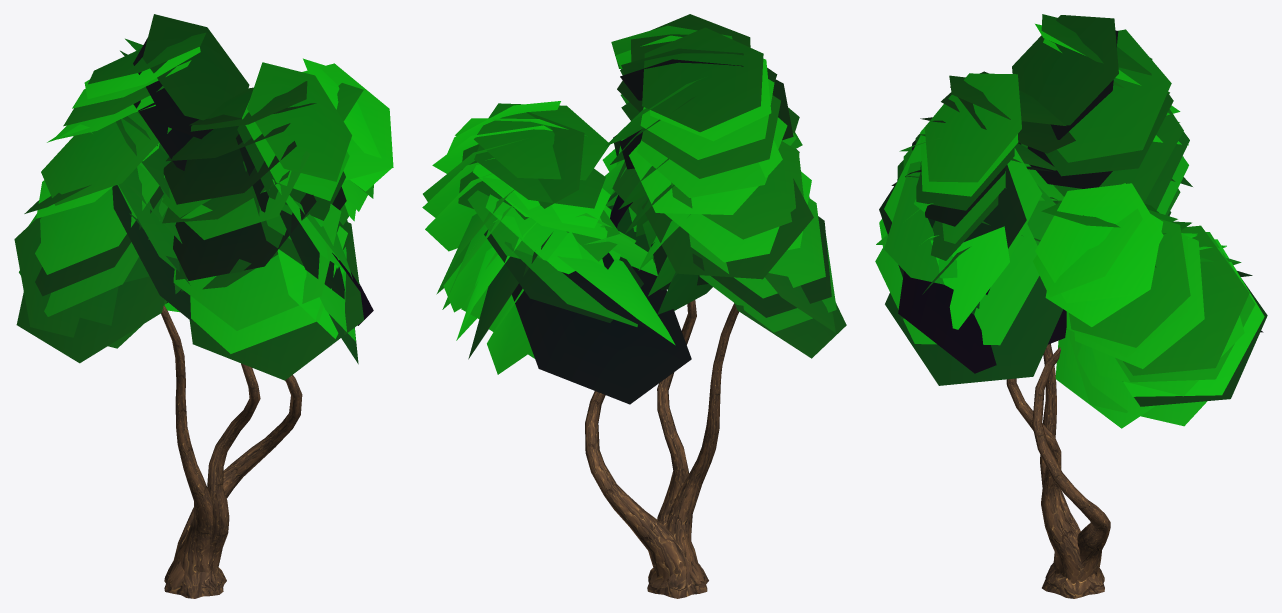
File: FantasyTree3.fbx
3 renders of one model, left to right at view 1: azimuth 30°, elevation 25°; view 2: azimuth 150°, elevation 25°; view 3: azimuth 270°, elevation 25°, orthographic.
Visible parts, largest first — view 1: fantasyleaf2_alpha_1, tree2_0; view 2: fantasyleaf2_alpha_1, tree2_0; view 3: fantasyleaf2_alpha_1, tree2_0.
Part boxes in pixels (left/top/right/bottom): fantasyleaf2_alpha_1: left=14, top=14, right=393, bottom=380; tree2_0: left=161, top=305, right=302, bottom=598; fantasyleaf2_alpha_1: left=422, top=14, right=846, bottom=404; tree2_0: left=585, top=300, right=738, bottom=598; fantasyleaf2_alpha_1: left=875, top=14, right=1267, bottom=428; tree2_0: left=1006, top=343, right=1110, bottom=598.
Bounding box in the file's own units: 427 × 613 × 392.
Materials: 1 (1 with a texture image).
